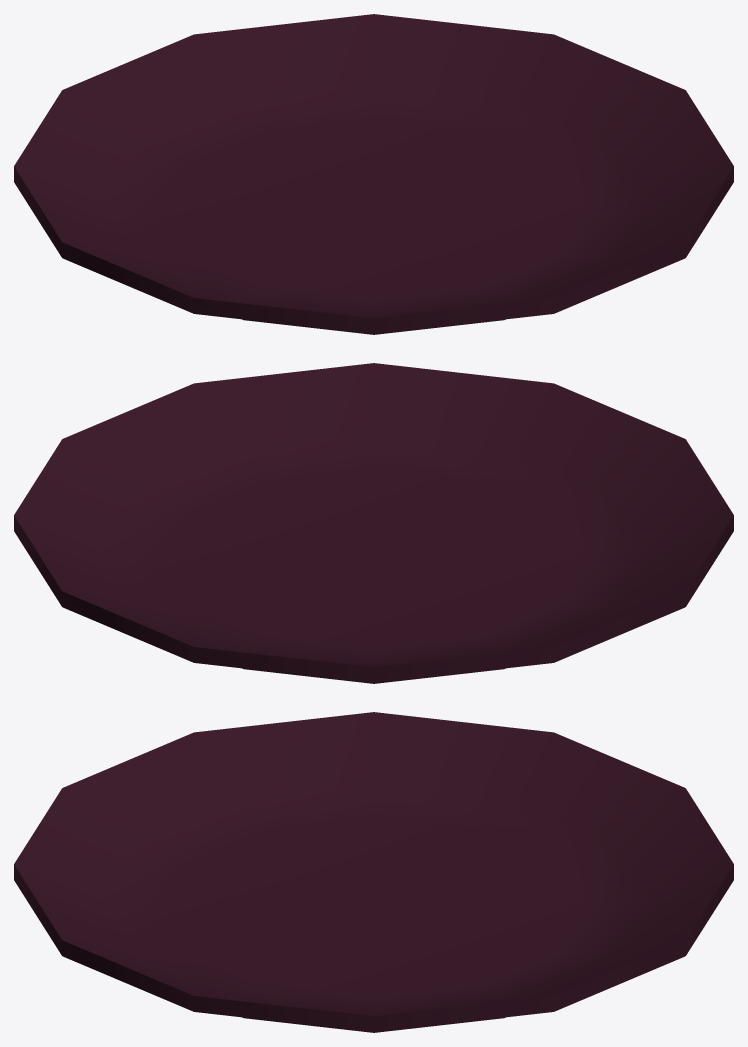
The model's file is plate.fbx.
3 views of the same model, one above another, from view 1: azimuth 30°, elevation 25°; view 2: azimuth 150°, elevation 25°; view 3: azimuth 270°, elevation 25° (orthographic).
Visible parts, largest first — view 1: pCylinder12; view 2: pCylinder12; view 3: pCylinder12.
Boxes of the visible parts, x1=… form: pCylinder12: x1=14, y1=14, x2=733, y2=334; pCylinder12: x1=14, y1=363, x2=733, y2=683; pCylinder12: x1=14, y1=712, x2=733, y2=1032.
Size of the model in its own units: 2.74 by 0.2458 by 2.74.
